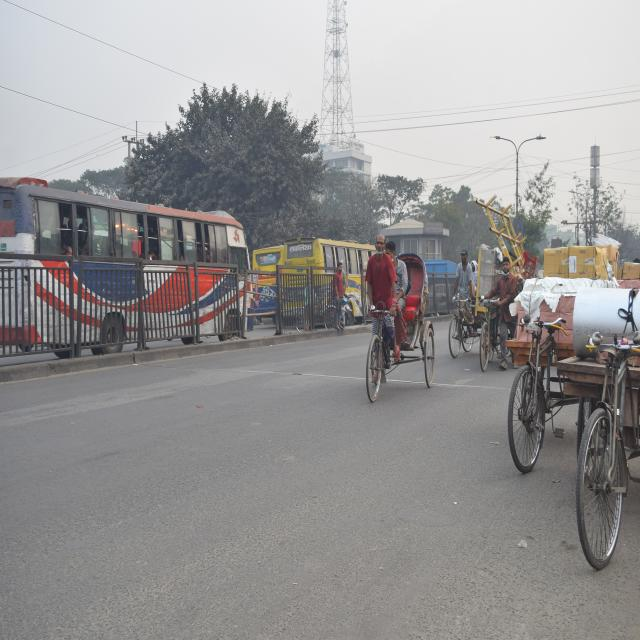bus: (0, 122, 266, 353), (279, 238, 374, 342)
